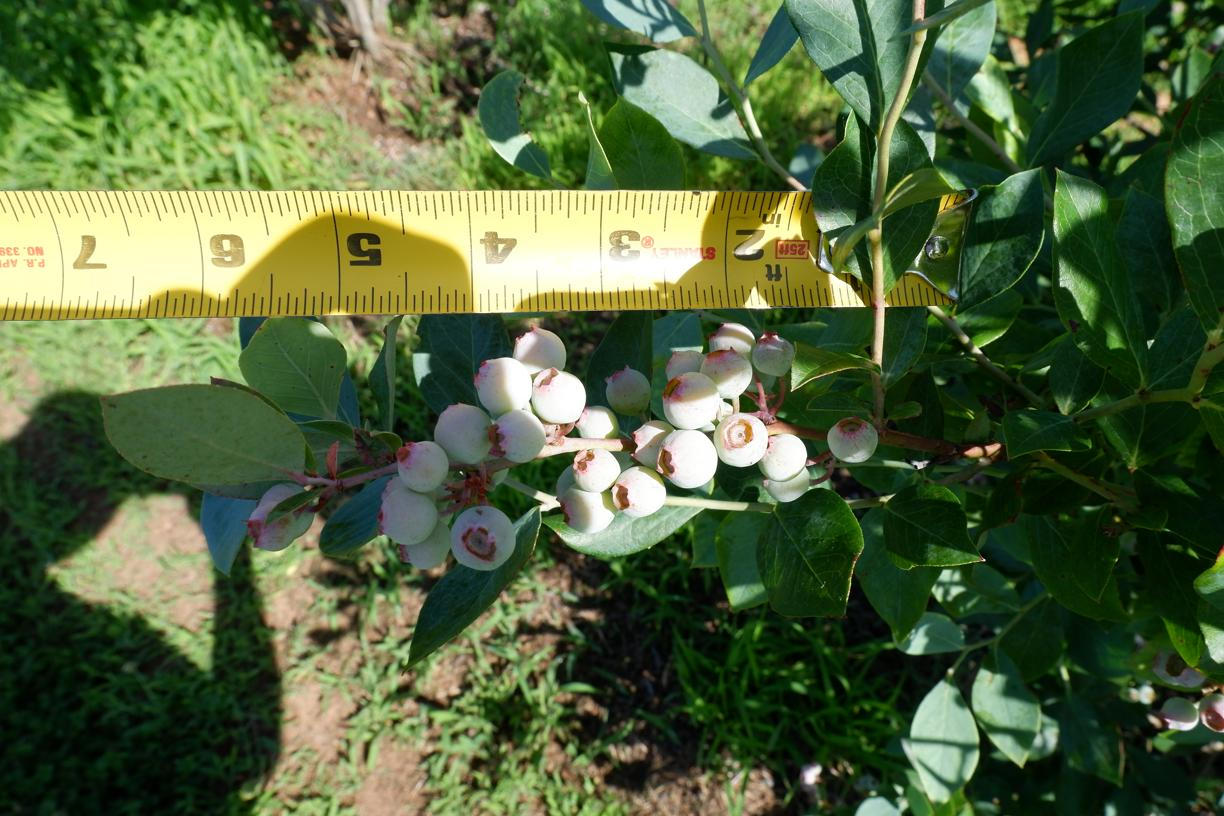Immature: (450, 506, 517, 571), (434, 403, 494, 464), (656, 429, 718, 488), (378, 488, 439, 545), (475, 356, 532, 417), (663, 371, 721, 429), (514, 325, 567, 387), (531, 366, 586, 424), (256, 483, 315, 536), (560, 482, 618, 535), (487, 410, 546, 462), (713, 413, 768, 467), (699, 347, 755, 398), (612, 467, 667, 518), (396, 441, 449, 492), (248, 501, 298, 552), (399, 520, 450, 570), (757, 433, 807, 482), (605, 365, 651, 416), (827, 417, 878, 463), (631, 420, 675, 470), (572, 448, 621, 492), (708, 322, 755, 366), (753, 331, 796, 377), (762, 466, 810, 502), (574, 406, 620, 438), (421, 486, 456, 527), (664, 350, 705, 382), (382, 475, 415, 501), (556, 464, 576, 502), (747, 369, 776, 392)
